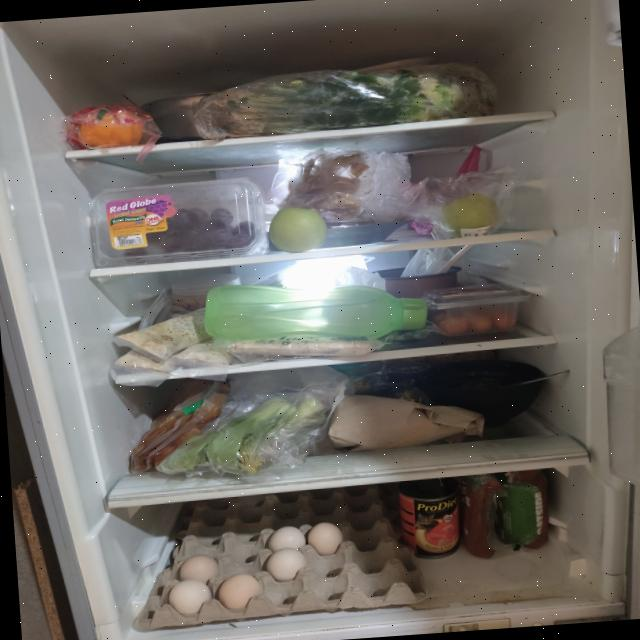apple: (268, 204, 330, 254), (442, 190, 500, 238)
egg: (131, 480, 428, 630)
grape: (86, 176, 271, 266)
leafy_greens: (196, 57, 497, 138)
orange: (78, 105, 144, 148)
pakchoy: (156, 392, 332, 482)
tempeh: (110, 305, 234, 376), (230, 328, 384, 364)
